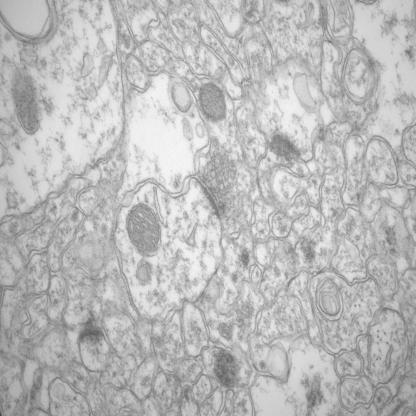mitochondria: (124, 199, 166, 258), (10, 70, 44, 140), (196, 79, 231, 129)
